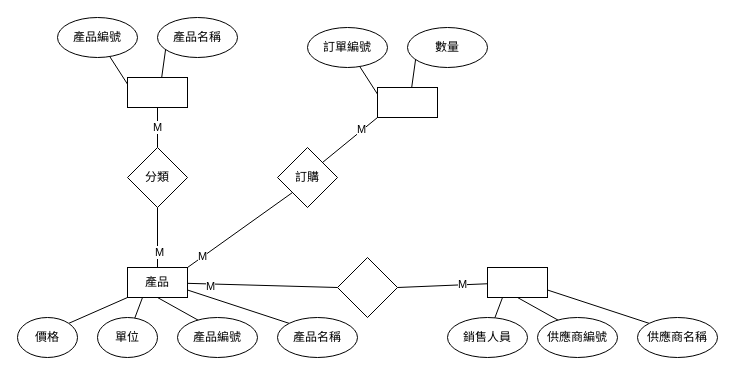
Some shapes in this 735 by 375 pixel diagram are drawn without their labels. The shapes that lost their labels are listed below. From the top down, each one's centre as x and y in pixels, then its label:
At [157,92]: "類別".
At [407,102]: "訂單明細".
At [367,287]: "供應".
At [517,282]: "供應商".
